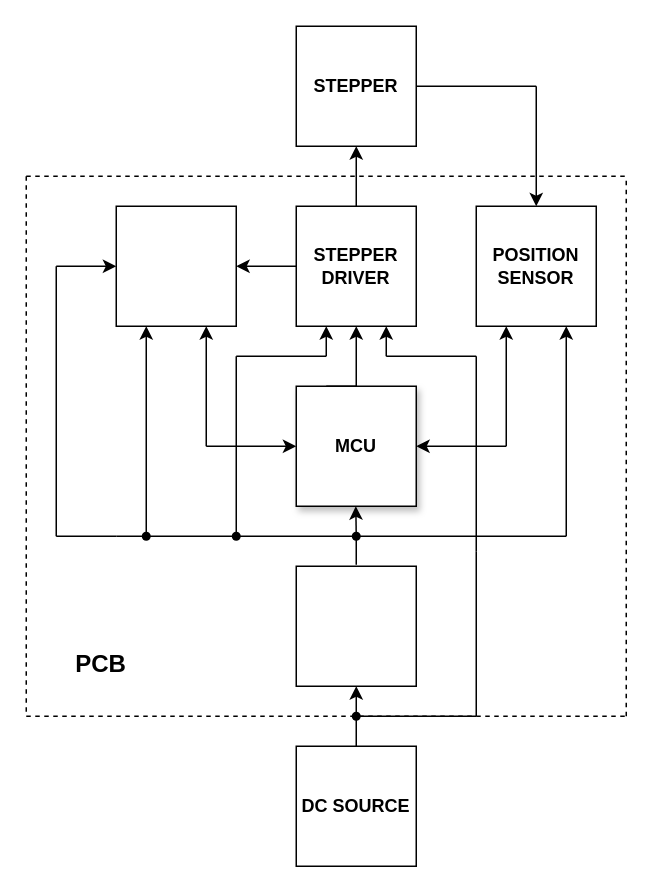
Image size: 654x893. Some labels were removed from this diagram. Each missing label, with the centre of its shape:
CURRENT SENSOR: the point at 175,265
PSU: the point at 355,625
